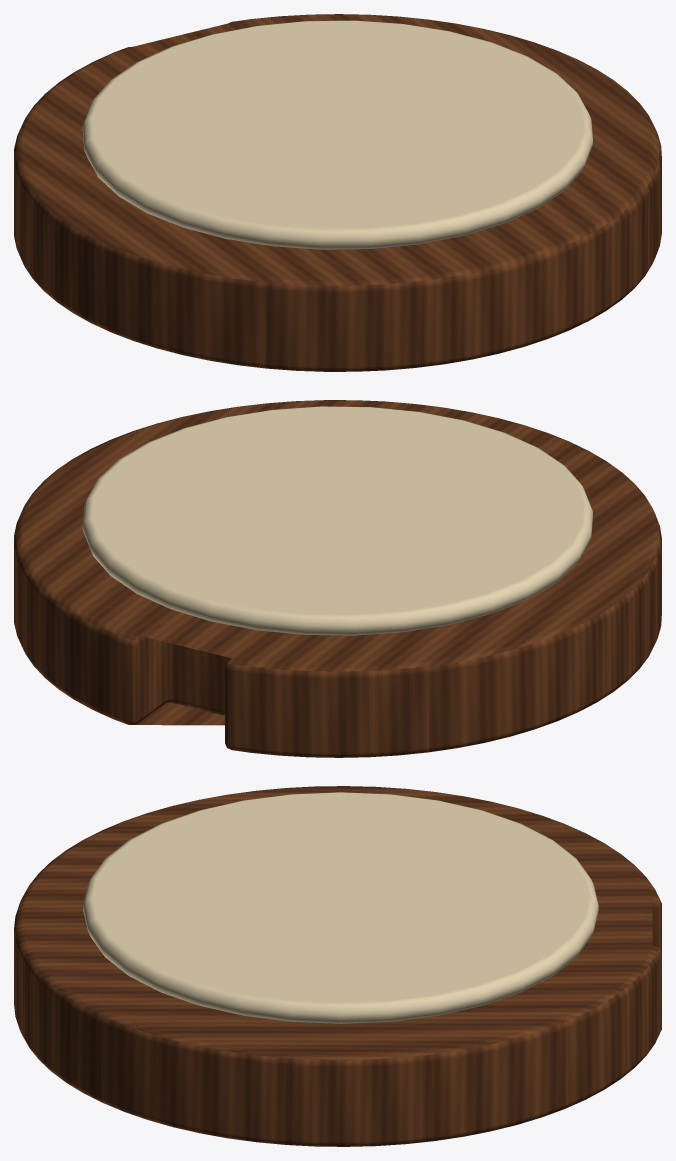
File: Pickup_MoonDisc.fbx
3 views of the same model, one above another, from view 1: azimuth 30°, elevation 25°; view 2: azimuth 150°, elevation 25°; view 3: azimuth 270°, elevation 25° (orthographic).
Parts seen in each view (by area): view 1: Moon centerpiece.001, Moon medallion.001; view 2: Moon centerpiece.001, Moon medallion.001; view 3: Moon centerpiece.001, Moon medallion.001.
Part boxes in pixels (x1,y1,x2,y2): Moon centerpiece.001: (14,14,661,371); Moon medallion.001: (82,20,592,249); Moon centerpiece.001: (14,400,661,757); Moon medallion.001: (82,406,592,635); Moon centerpiece.001: (14,786,661,1146); Moon medallion.001: (83,792,598,1023).
Bounding box in the file's own units: 0.142 × 0.0275 × 0.1407.
2 materials, 1 textured.
